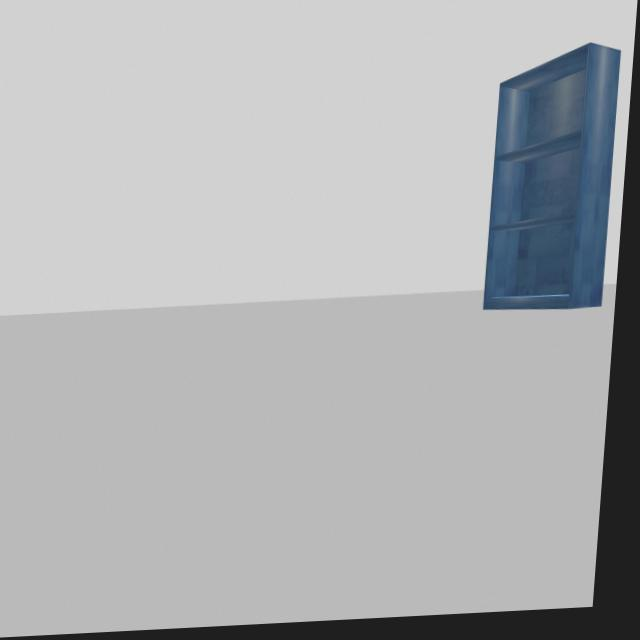shelf: (478, 42, 631, 326)
